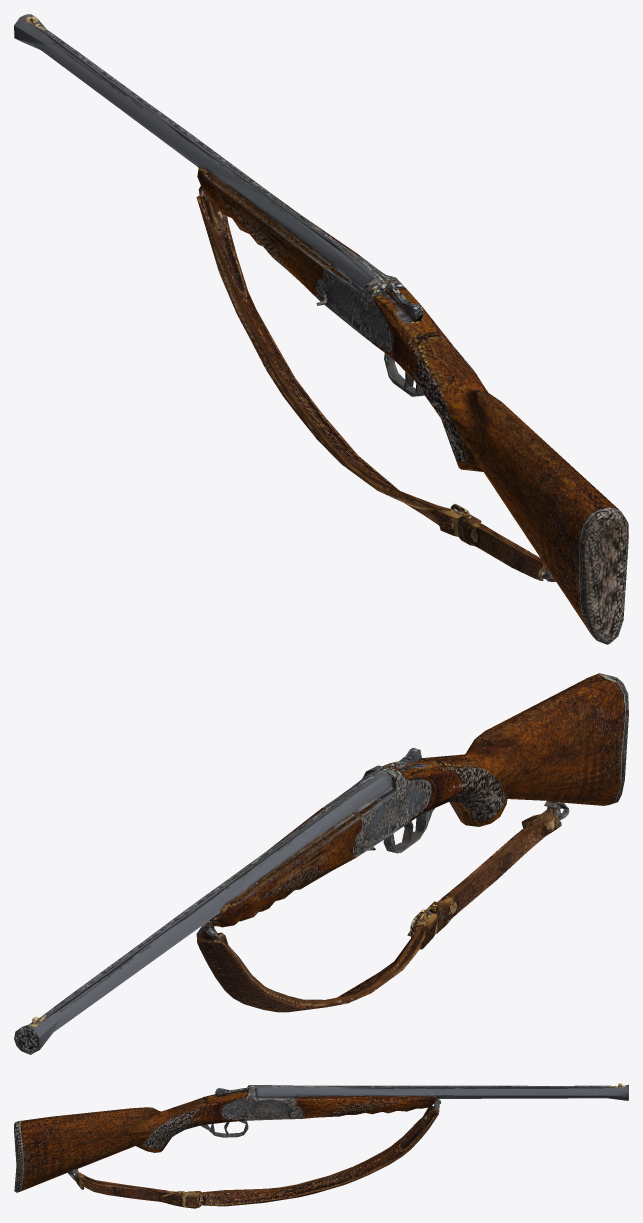
The model's file is choke_tp.glb.
The picture shows the model from 3 angles, top to bottom: view 1: azimuth 30°, elevation 25°; view 2: azimuth 150°, elevation 25°; view 3: azimuth 270°, elevation 25°; orthographic projection. The views are drawn at different scales.
Parts seen in each view (by area): view 1: choke_tp; view 2: choke_tp; view 3: choke_tp.
Part boxes in pixels (x1,y1,x2,y2): choke_tp: (14, 14, 628, 644); choke_tp: (14, 673, 628, 1054); choke_tp: (14, 1083, 628, 1208).
Size of the model in its own units: 0.0623 by 0.2463 by 1.15.
Materials: 1 (1 with a texture image).
